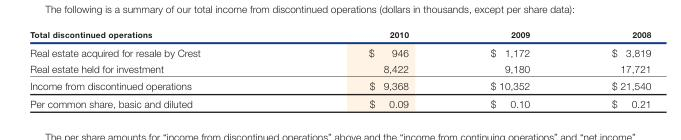table: (29, 29, 650, 109)
table column: (29, 29, 283, 109), (283, 29, 448, 109), (448, 29, 570, 109), (570, 29, 650, 109)
table column header: (29, 29, 650, 42)
table row: (29, 42, 650, 60), (29, 76, 650, 94), (29, 60, 650, 76), (29, 94, 650, 109), (29, 29, 650, 42)
